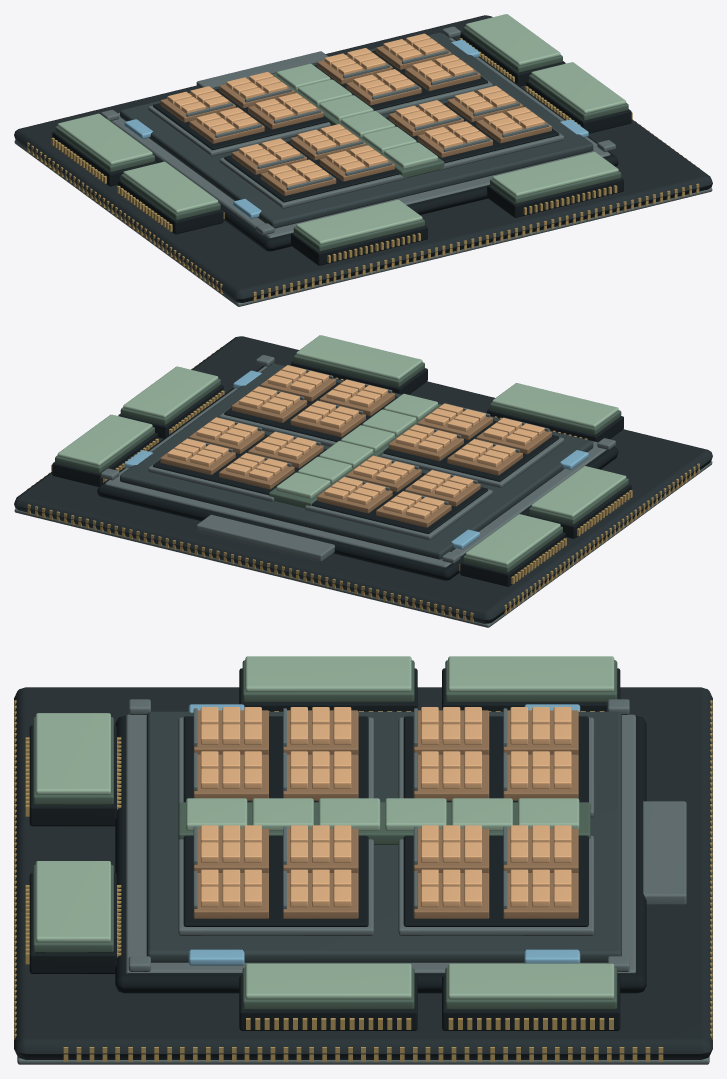
Rendered from gex-gpu.glb.
3 views of the same model, one above another, from view 1: azimuth 30°, elevation 25°; view 2: azimuth 150°, elevation 25°; view 3: azimuth 270°, elevation 25° (orthographic). The views are drawn at different scales.
Visible parts, largest first — view 1: GEX_GPU_BOARD, GEX_GPU_DIE, GEX_PACKAGE_CONTACTS, GEX_PACKAGE_FRAME, GEX_GLOBAL_CAP_04, GEX_GLOBAL_CAP_05, GEX_GLOBAL_CAP_02, GEX_GLOBAL_CAP_01, GEX_GLOBAL_CAP_03, GEX_GLOBAL_CAP_00, GEX_GPU_PACKAGE, GEX_BOARD_EDGE (+44 smaller); view 2: GEX_GPU_BOARD, GEX_GPU_DIE, GEX_PACKAGE_CONTACTS, GEX_PACKAGE_FRAME, GEX_GPU_PACKAGE, GEX_GLOBAL_CAP_04, GEX_GLOBAL_CAP_05, GEX_HOST_INTERFACE, GEX_GLOBAL_CAP_00, GEX_GLOBAL_CAP_02, GEX_GLOBAL_CAP_01, GEX_GLOBAL_CAP_03 (+44 smaller); view 3: GEX_GPU_BOARD, GEX_GPU_DIE, GEX_PACKAGE_FRAME, GEX_PACKAGE_CONTACTS, GEX_GPU_PACKAGE, GEX_GLOBAL_CAP_04, GEX_GLOBAL_CAP_05, GEX_GLOBAL_CAP_02, GEX_GLOBAL_CAP_03, GEX_GLOBAL_CAP_00, GEX_GLOBAL_CAP_01, GEX_HOST_INTERFACE (+46 smaller).
Part boxes in pixels (left/top/right/bottom): GEX_GPU_BOARD: left=14, top=15, right=712, bottom=302; GEX_GPU_DIE: left=120, top=32, right=593, bottom=228; GEX_PACKAGE_CONTACTS: left=27, top=38, right=699, bottom=301; GEX_PACKAGE_FRAME: left=110, top=38, right=610, bottom=238; GEX_GLOBAL_CAP_04: left=296, top=199, right=422, bottom=244; GEX_GLOBAL_CAP_05: left=492, top=152, right=618, bottom=196; GEX_GLOBAL_CAP_02: left=465, top=14, right=560, bottom=65; GEX_GLOBAL_CAP_01: left=123, top=161, right=218, bottom=213; GEX_GLOBAL_CAP_03: left=531, top=62, right=626, bottom=113; GEX_GLOBAL_CAP_00: left=57, top=113, right=152, bottom=165; GEX_GPU_PACKAGE: left=152, top=37, right=618, bottom=251; GEX_BOARD_EDGE: left=14, top=140, right=712, bottom=306; GEX_GPU_BOARD: left=14, top=336, right=712, bottom=623; GEX_GPU_DIE: left=120, top=363, right=593, bottom=559; GEX_PACKAGE_CONTACTS: left=27, top=347, right=699, bottom=622; GEX_PACKAGE_FRAME: left=105, top=363, right=606, bottom=567; GEX_GPU_PACKAGE: left=97, top=366, right=618, bottom=580; GEX_GLOBAL_CAP_04: left=492, top=383, right=618, bottom=427; GEX_GLOBAL_CAP_05: left=296, top=335, right=422, bottom=380; GEX_HOST_INTERFACE: left=196, top=514, right=334, bottom=561; GEX_GLOBAL_CAP_00: left=465, top=514, right=560, bottom=565; GEX_GLOBAL_CAP_02: left=57, top=414, right=152, bottom=466; GEX_GLOBAL_CAP_01: left=531, top=466, right=626, bottom=517; GEX_GLOBAL_CAP_03: left=123, top=366, right=218, bottom=418; GEX_GPU_BOARD: left=14, top=687, right=712, bottom=1059; GEX_GPU_DIE: left=146, top=711, right=621, bottom=962; GEX_PACKAGE_FRAME: left=126, top=714, right=635, bottom=973; GEX_PACKAGE_CONTACTS: left=14, top=700, right=712, bottom=1061; GEX_GPU_PACKAGE: left=115, top=716, right=646, bottom=993; GEX_GLOBAL_CAP_04: left=35, top=713, right=110, bottom=794; GEX_GLOBAL_CAP_05: left=35, top=861, right=110, bottom=942; GEX_GLOBAL_CAP_02: left=448, top=963, right=614, bottom=999; GEX_GLOBAL_CAP_03: left=245, top=963, right=411, bottom=999; GEX_GLOBAL_CAP_00: left=448, top=656, right=614, bottom=691; GEX_GLOBAL_CAP_01: left=245, top=656, right=411, bottom=691; GEX_HOST_INTERFACE: left=643, top=801, right=686, bottom=905.
Bounding box in the file's own units: 12.2 × 1.32 × 10.
